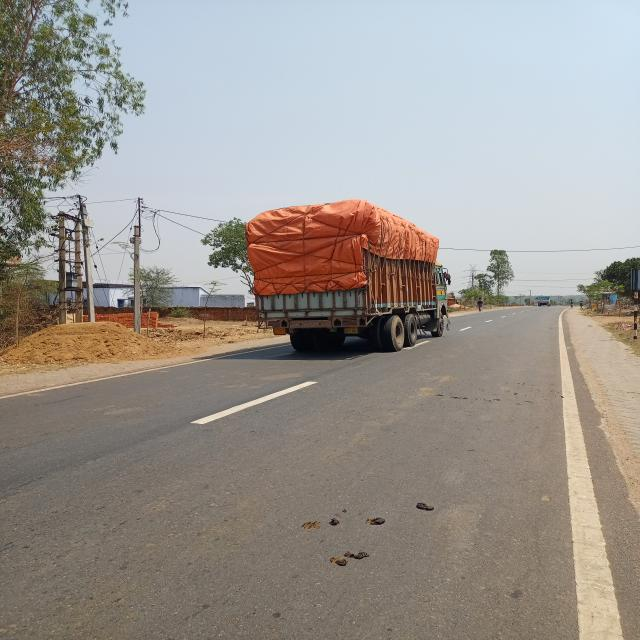Truck: (248, 197, 454, 353)
